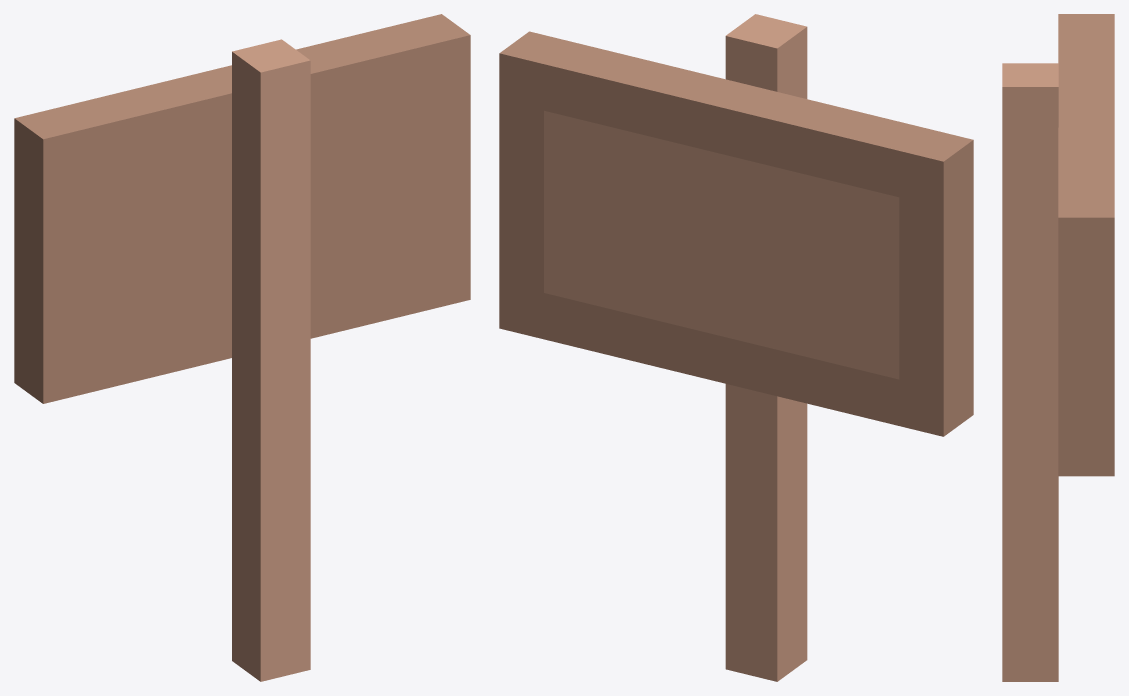
The model's file is sign.glb.
3 views of the same model, side by side, from view 1: azimuth 30°, elevation 25°; view 2: azimuth 150°, elevation 25°; view 3: azimuth 270°, elevation 25° (orthographic). The views are drawn at different scales.
Visible parts, largest first — view 1: sign; view 2: sign; view 3: sign.
Part boxes in pixels (left/top/right/bottom): sign: left=14, top=14, right=470, bottom=681; sign: left=499, top=14, right=973, bottom=681; sign: left=1002, top=14, right=1114, bottom=681.
Bounding box in the file's own units: 0.3 × 0.4088 × 0.07.
